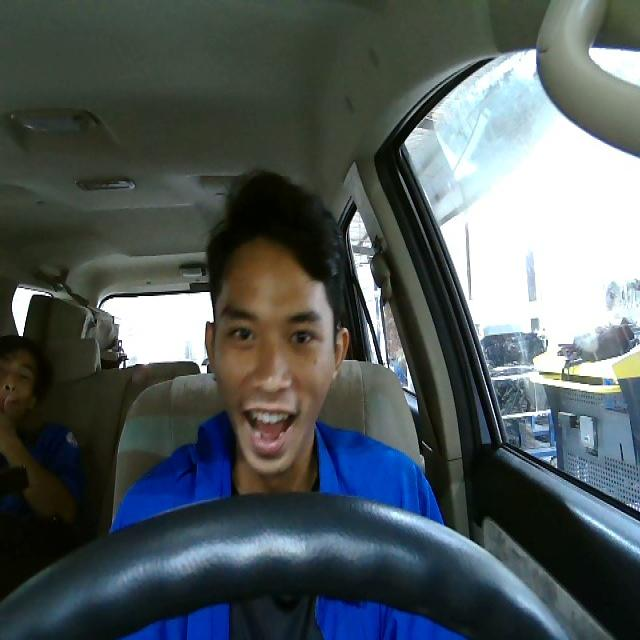yarning: (203, 236, 348, 475)
